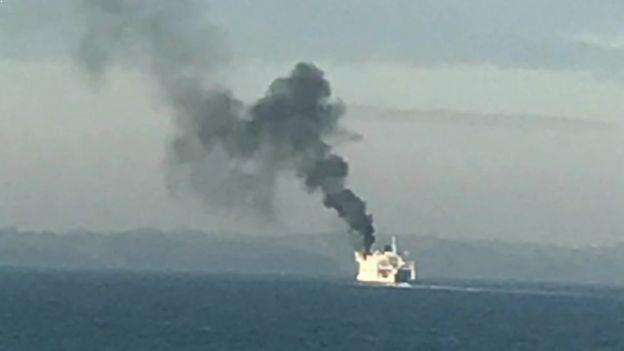fire: (357, 252, 410, 283)
smoke: (265, 89, 325, 158)
